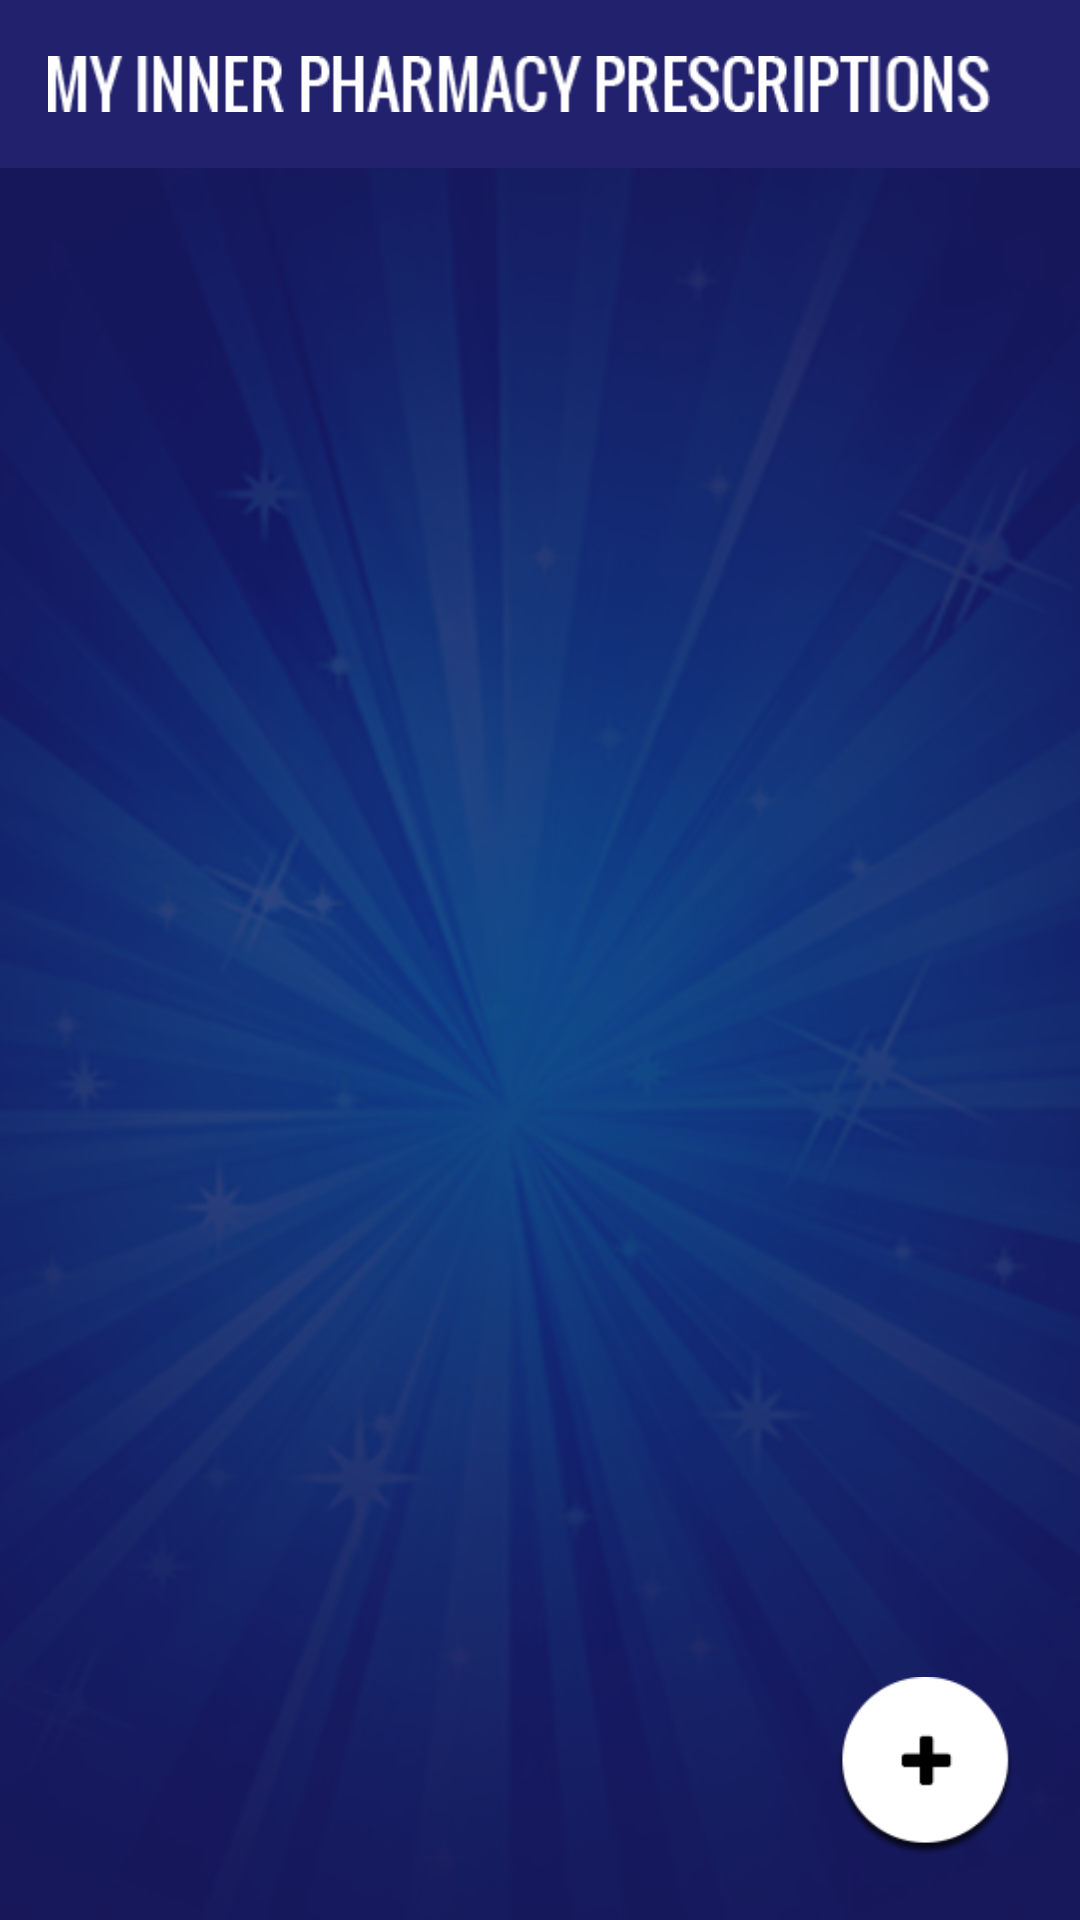

Named icons in this screenshot (1080×1920) and their bounding boxes, bbox=[x1, y1, x2, y2]:
paushtaskadd: bbox=[841, 1677, 1009, 1851]
